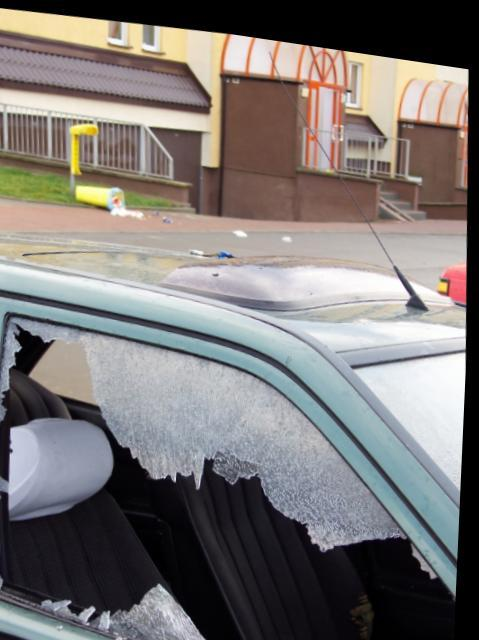glass shatter: (0, 312, 461, 640)
